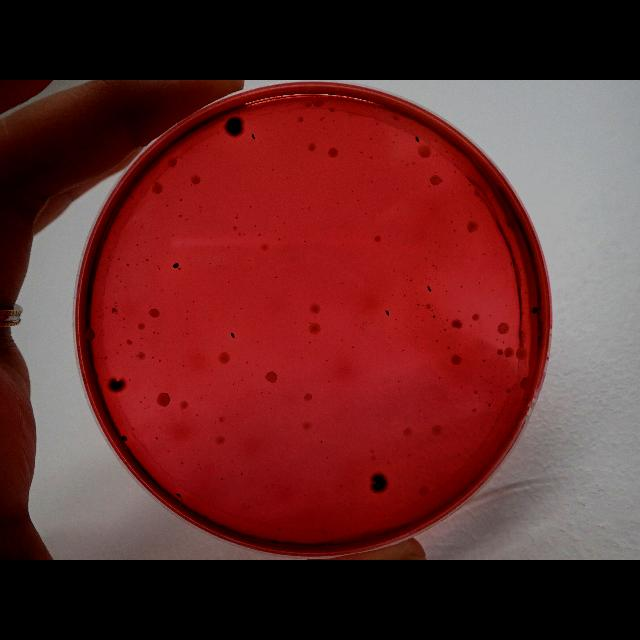colony: (222, 113, 246, 139), (369, 469, 389, 497), (108, 374, 126, 394), (175, 492, 182, 500), (172, 263, 180, 269), (414, 135, 420, 143), (532, 306, 538, 314), (122, 434, 128, 442), (426, 285, 432, 293), (230, 332, 236, 338), (251, 133, 255, 141), (386, 309, 390, 317), (488, 402, 492, 408), (506, 354, 508, 358)
